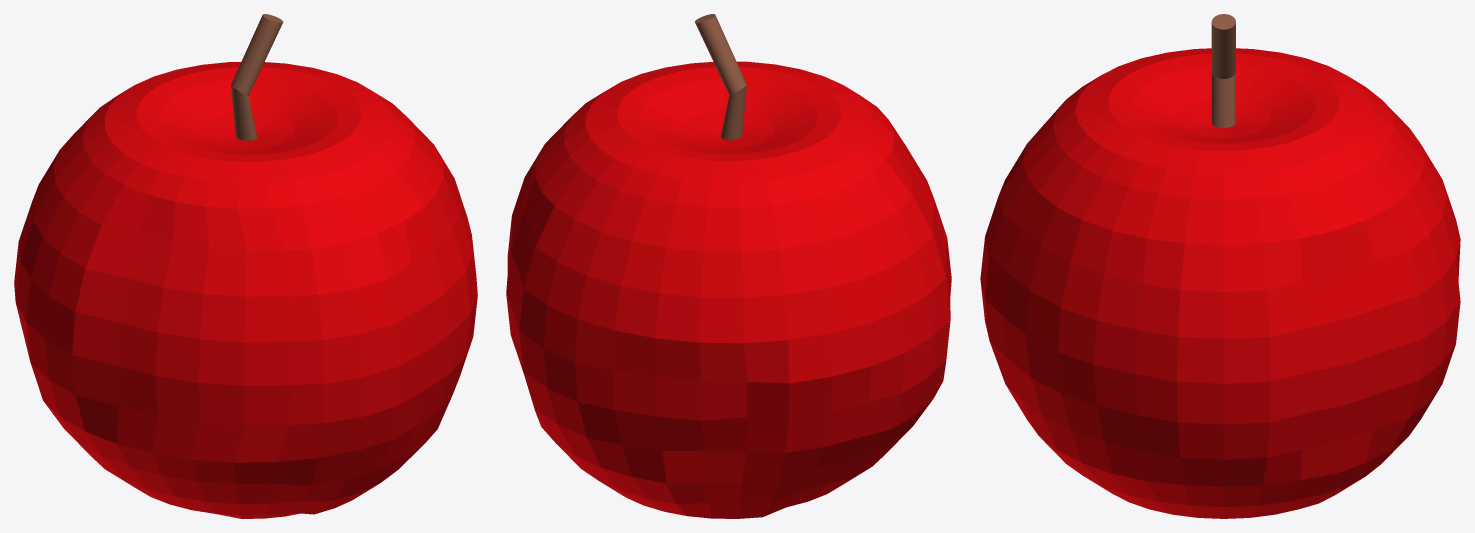
File: apple.fbx
The picture shows the model from 3 angles, left to right: view 1: azimuth 30°, elevation 25°; view 2: azimuth 150°, elevation 25°; view 3: azimuth 270°, elevation 25°; orthographic projection. The views are drawn at different scales.
Visible parts, largest first — view 1: Sphere, Cylinder; view 2: Sphere, Cylinder; view 3: Sphere, Cylinder.
Boxes of the visible parts, left/top/right/bottom form: Sphere: left=14, top=62, right=477, bottom=518; Cylinder: left=231, top=14, right=283, bottom=140; Sphere: left=506, top=61, right=951, bottom=518; Cylinder: left=695, top=14, right=746, bottom=140; Sphere: left=980, top=48, right=1460, bottom=518; Cylinder: left=1211, top=14, right=1235, bottom=127.
Bounding box in the file's own units: 200 × 214 × 199.
